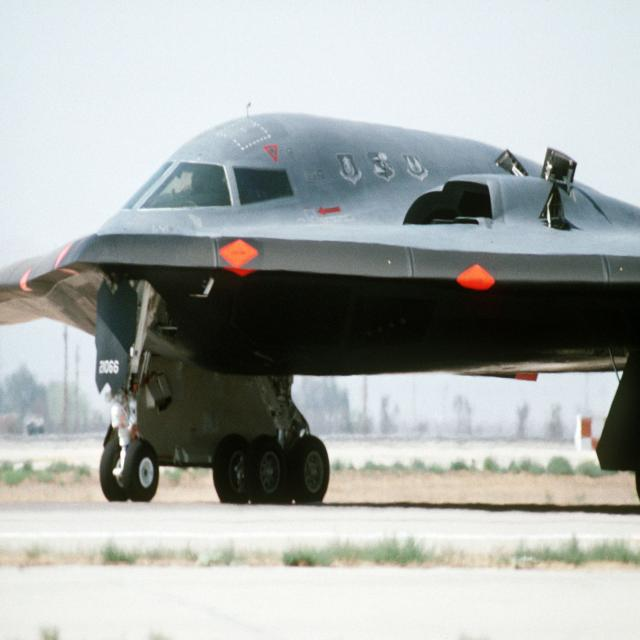MIL_Plane: (0, 100, 640, 503)
